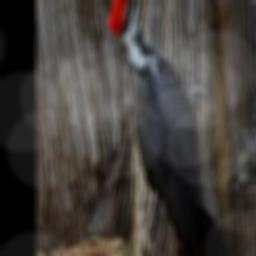Woodpecker: (106, 0, 237, 256)
